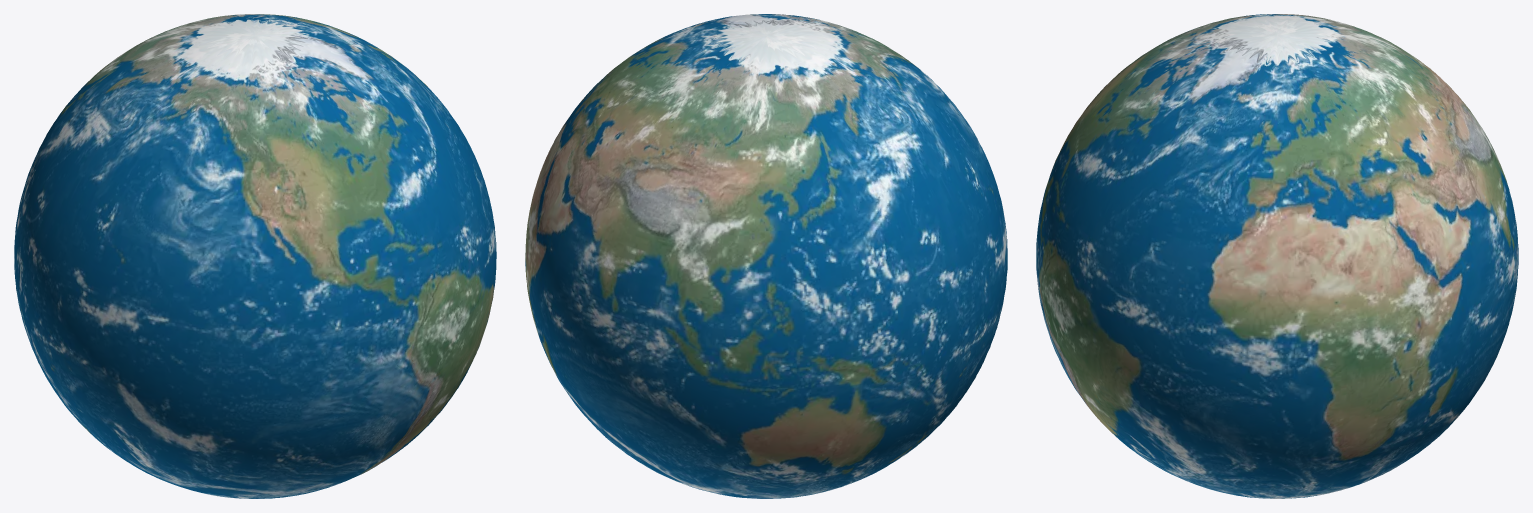
The model's file is earth-transformed.glb.
3 renders of one model, left to right at view 1: azimuth 30°, elevation 25°; view 2: azimuth 150°, elevation 25°; view 3: azimuth 270°, elevation 25°, orthographic.
Parts seen in each view (by area): view 1: Sphere_2; view 2: Sphere_2; view 3: Sphere_2.
Part boxes in pixels (x1=…): Sphere_2: x1=14, y1=14, x2=496, y2=498; Sphere_2: x1=525, y1=14, x2=1007, y2=498; Sphere_2: x1=1036, y1=14, x2=1518, y2=498.
Bounding box in the file's own units: 2.23 × 2.25 × 2.23.
1 material, 1 textured.
